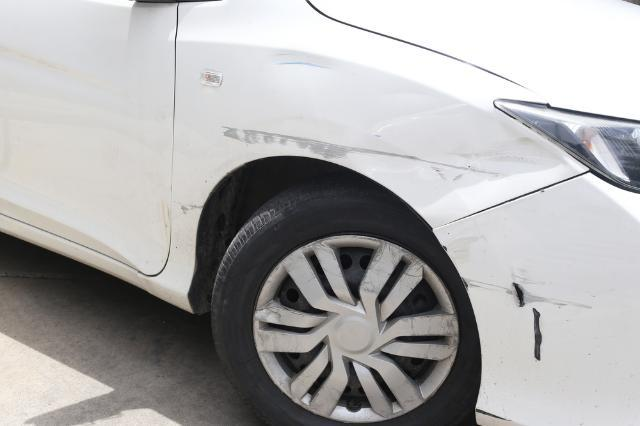dent: (229, 120, 557, 196)
scratch: (463, 268, 600, 367)
